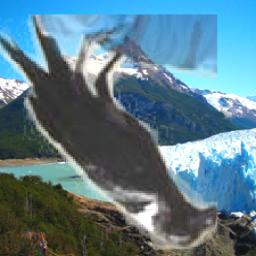Crow: (0, 15, 218, 256)
